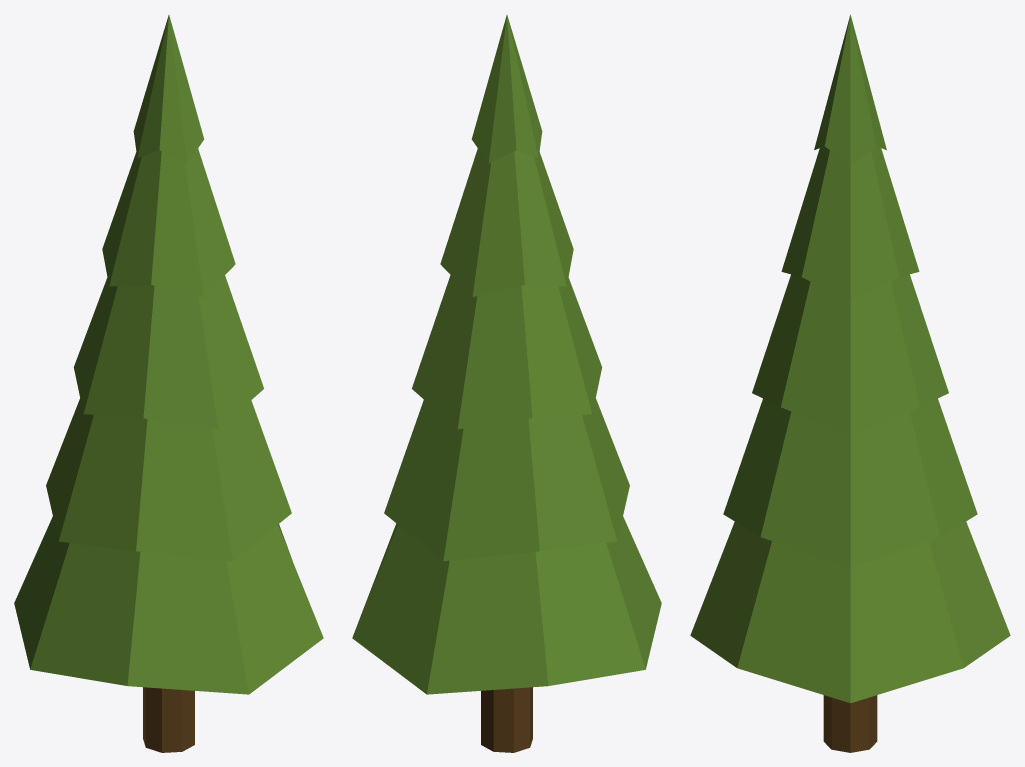
File: tree_1.glb
3 renders of one model, left to right at view 1: azimuth 30°, elevation 25°; view 2: azimuth 150°, elevation 25°; view 3: azimuth 270°, elevation 25°, orthographic.
Parts seen in each view (by area): view 1: Arbol; view 2: Arbol; view 3: Arbol.
Part boxes in pixels (x1,y1,x2,y2): Arbol: (14, 15, 323, 752); Arbol: (352, 15, 661, 752); Arbol: (690, 14, 1010, 752).
Size of the model in its own units: 5.03 by 12.6 by 5.03.
1 material, 1 textured.
